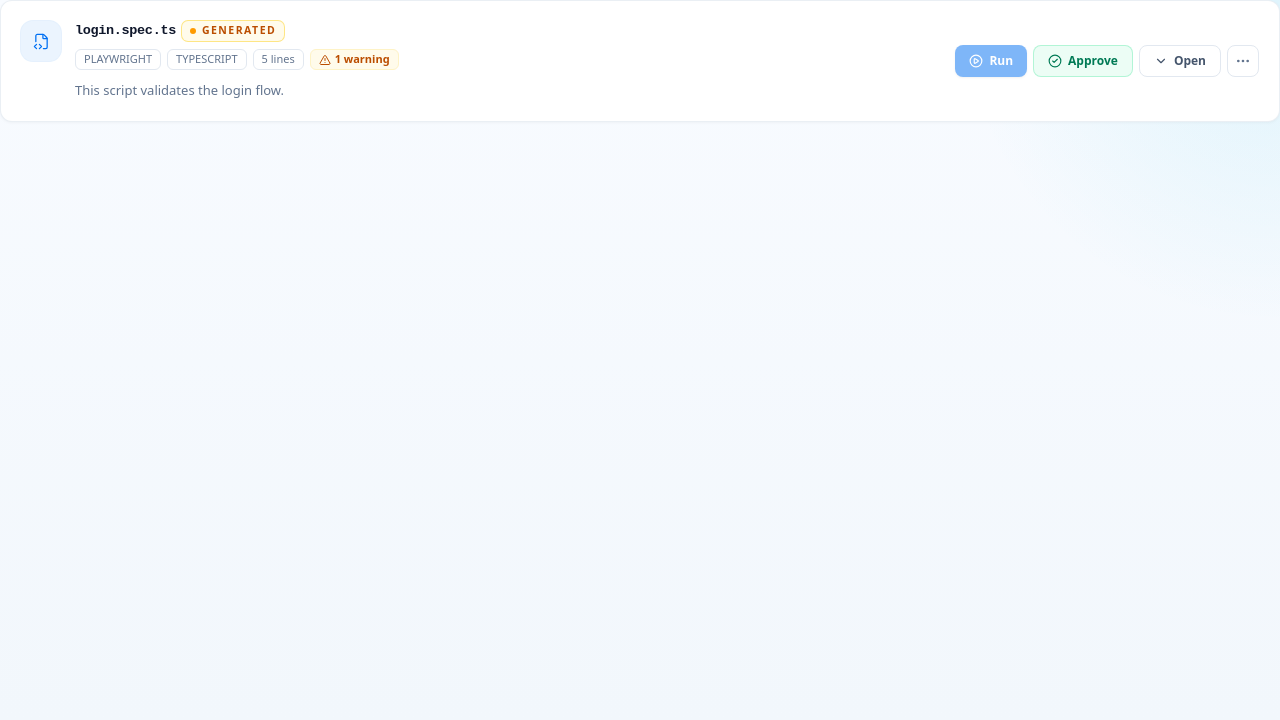
Test: AutomationScriptCard › cancels edit mode and restores original values
Click the button named "More script actions". click: (1243, 61)
box: [1227,45,1259,77]
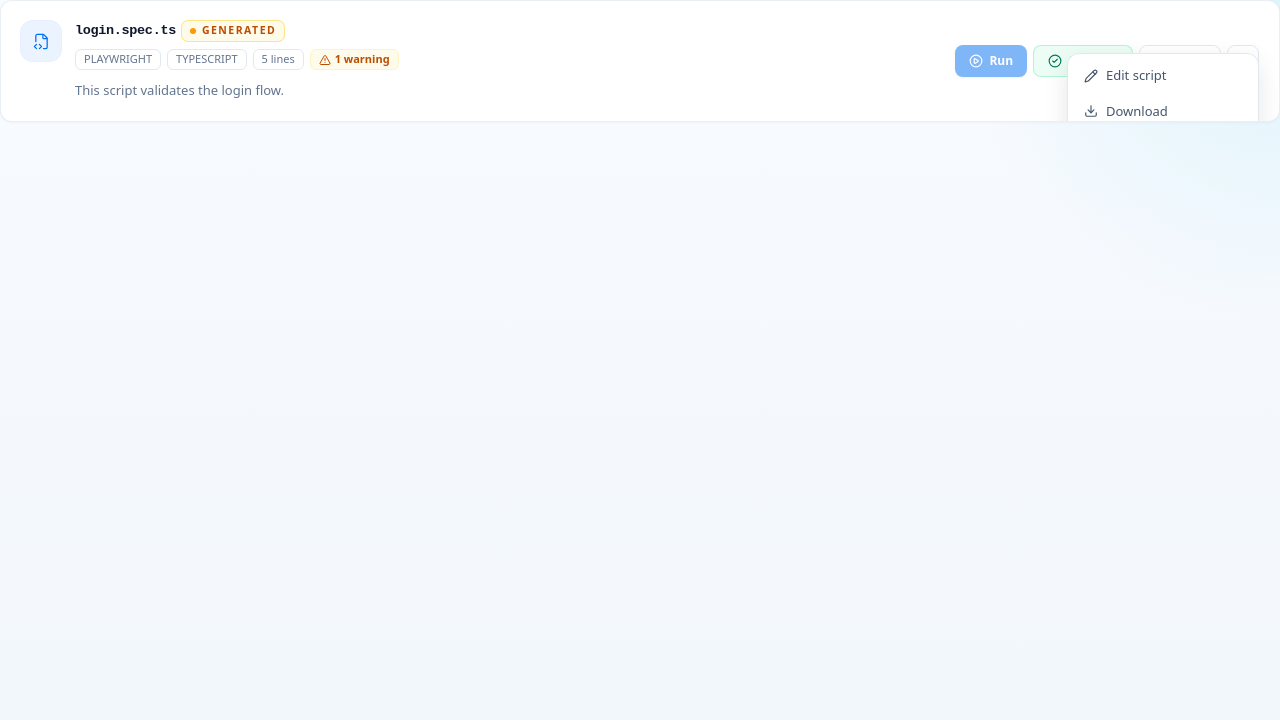
Click the button "Edit script". click: (1163, 76)
box: [1072,58,1254,94]
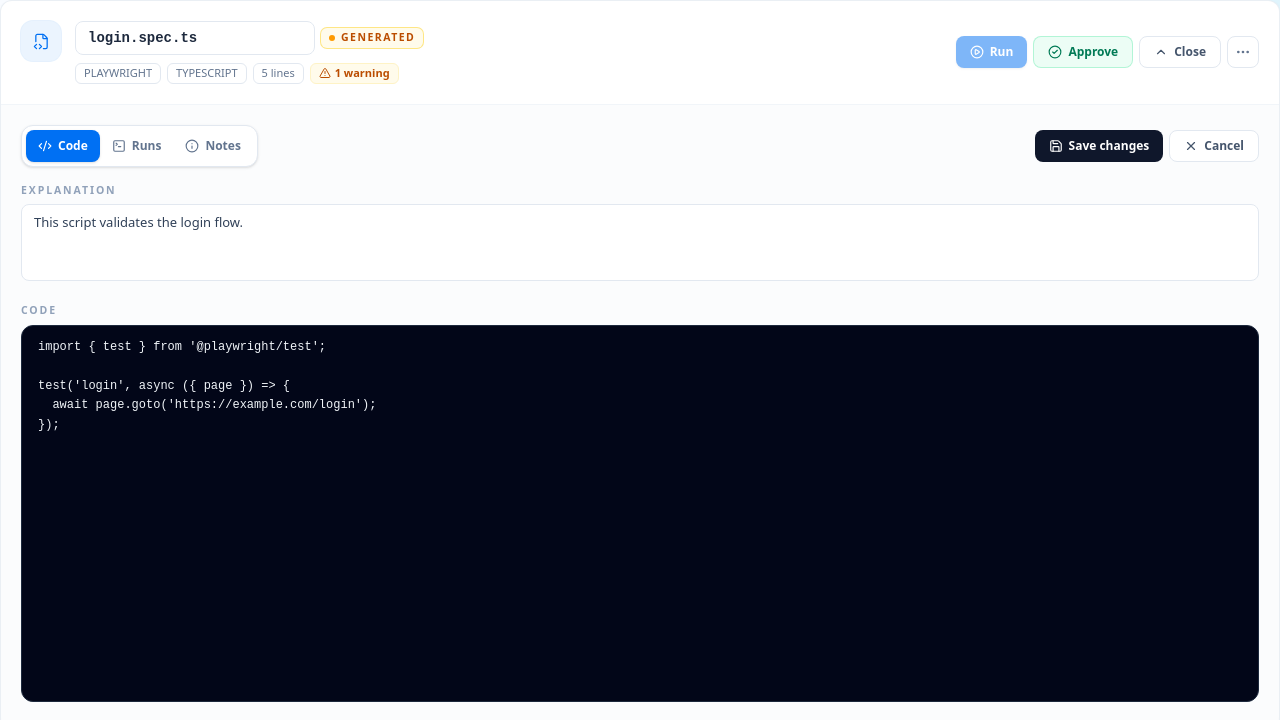
Replace the text in the field showing "login.spec.ts" with "changed.spec.ts". click: (195, 38)
box: [75,21,315,55]
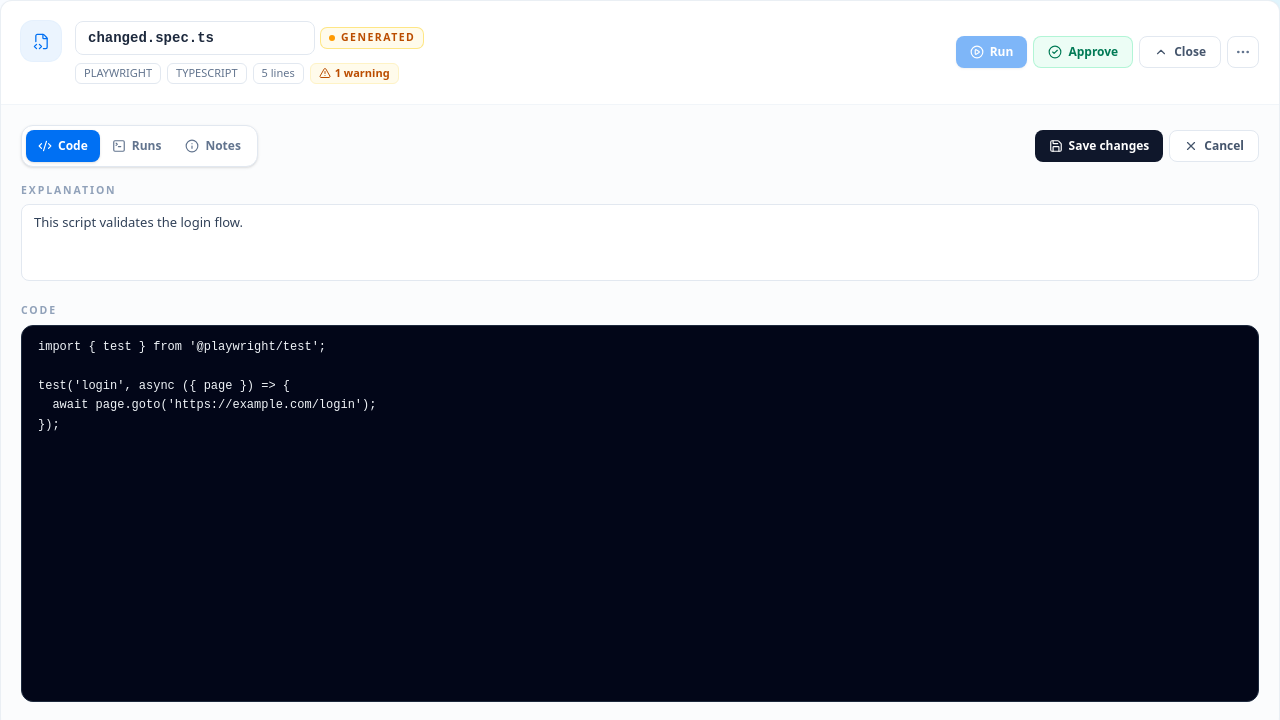
Click the button "Cancel". click: (1214, 146)
box: [1169,130,1259,162]
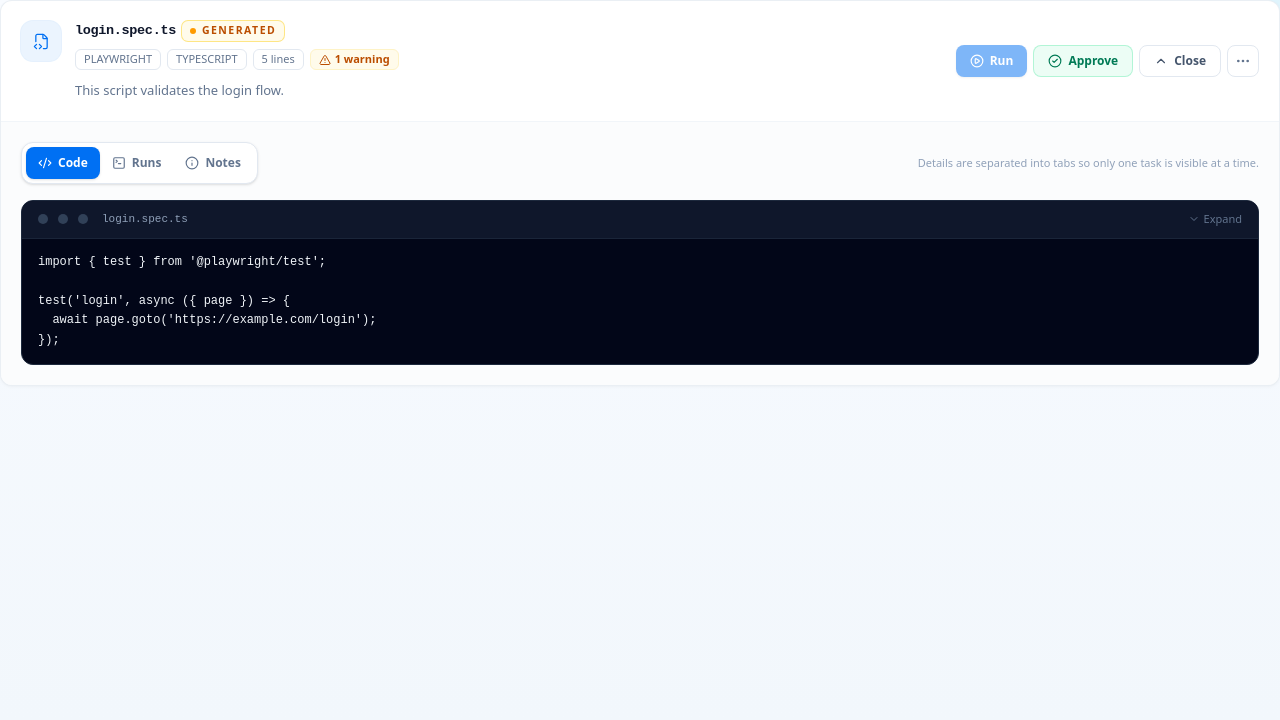
Expected: the field showing "changed.spec.ts" is not shown
Expected: the heading "login.spec.ts" is shown, [75,21,176,41]
